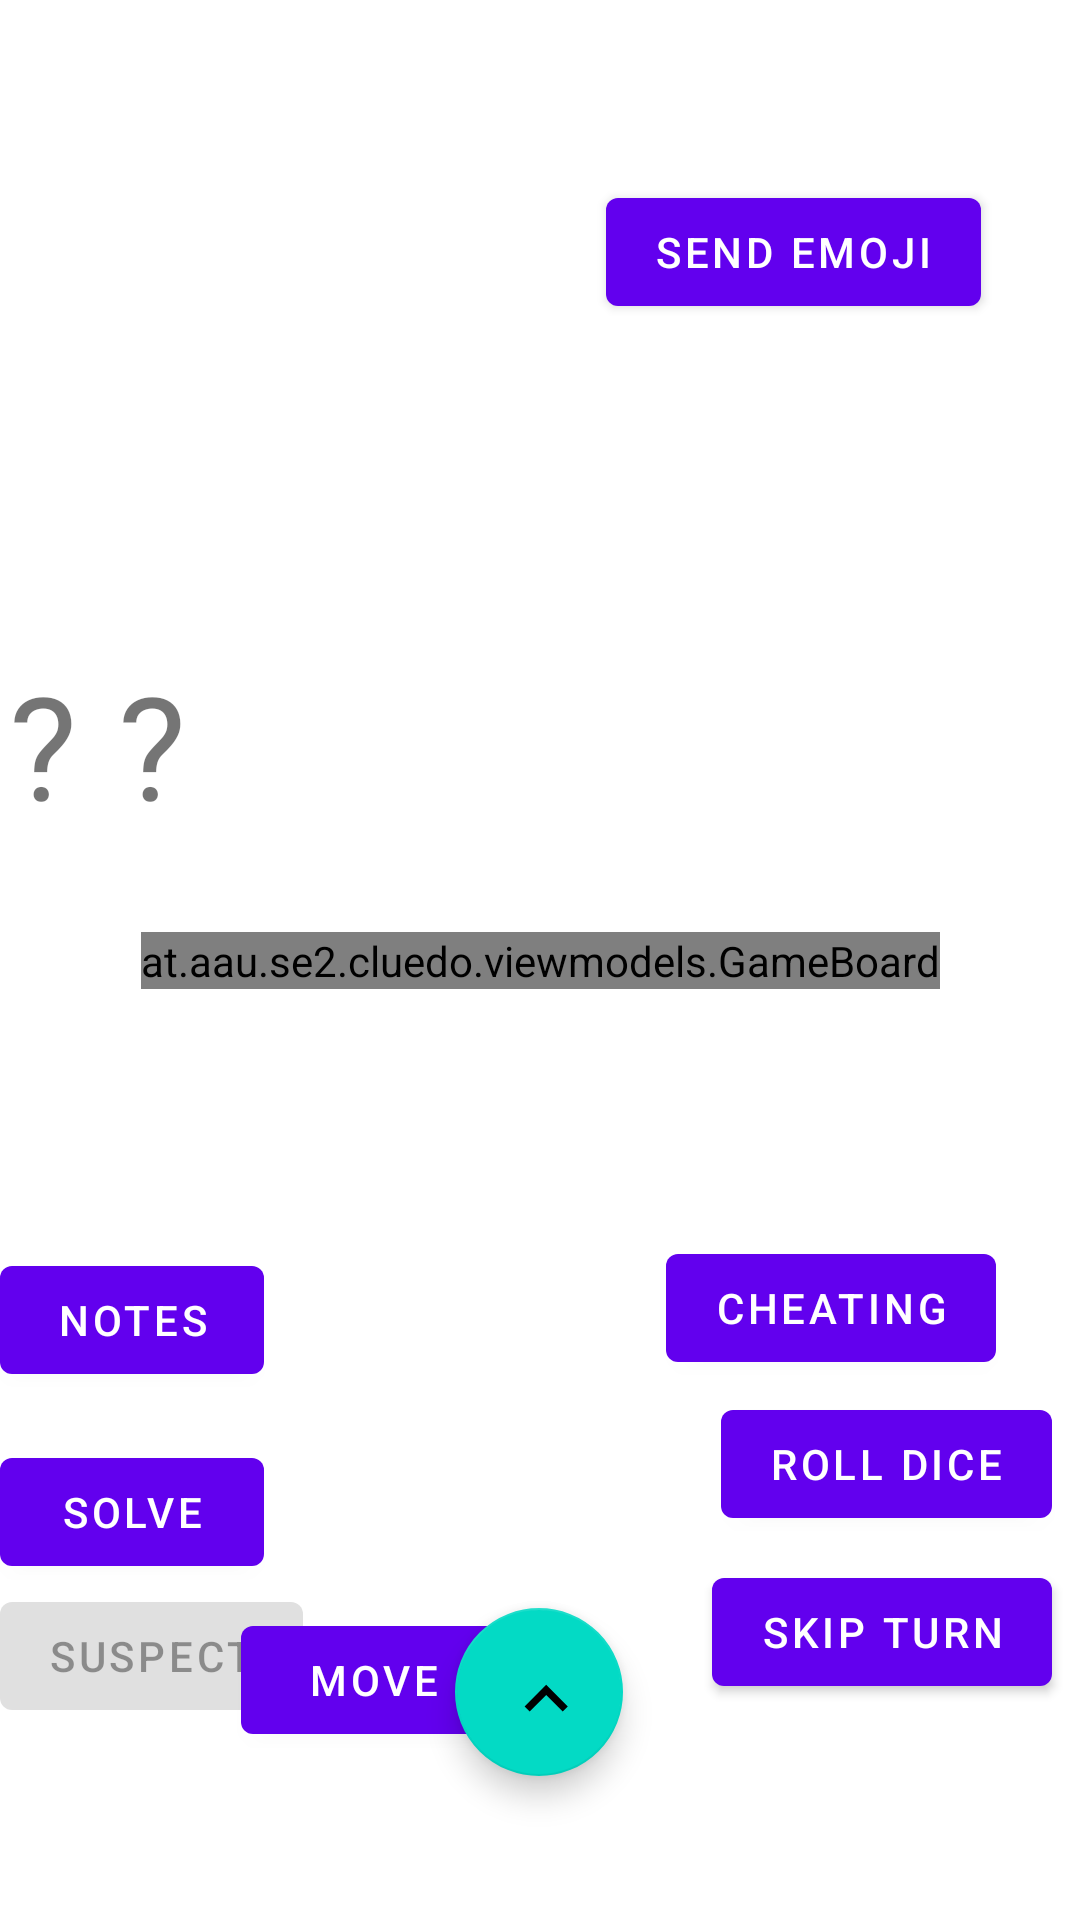

Point at icon controls on the screen. Image size 1080 x 1920, points as (x,y).
cards open: (539,1692)
